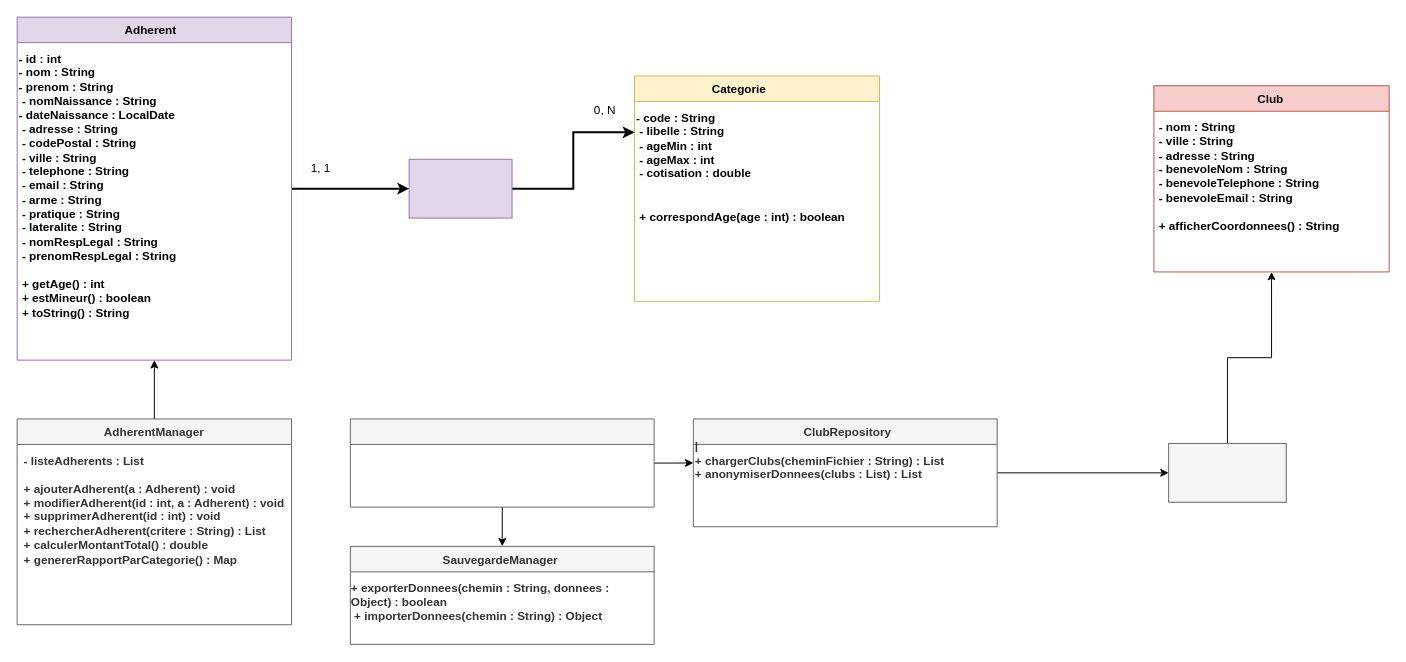
Some shapes in this 1406 by 662 pixel diagram are drawn without their labels. Each missing label, with the box of its shape:
Appartenir: (408, 158, 512, 218)
CategorieRepository + chargerCategories(cheminFichier : String) : List: (349, 418, 654, 507)
Gérer: (1168, 442, 1286, 502)
